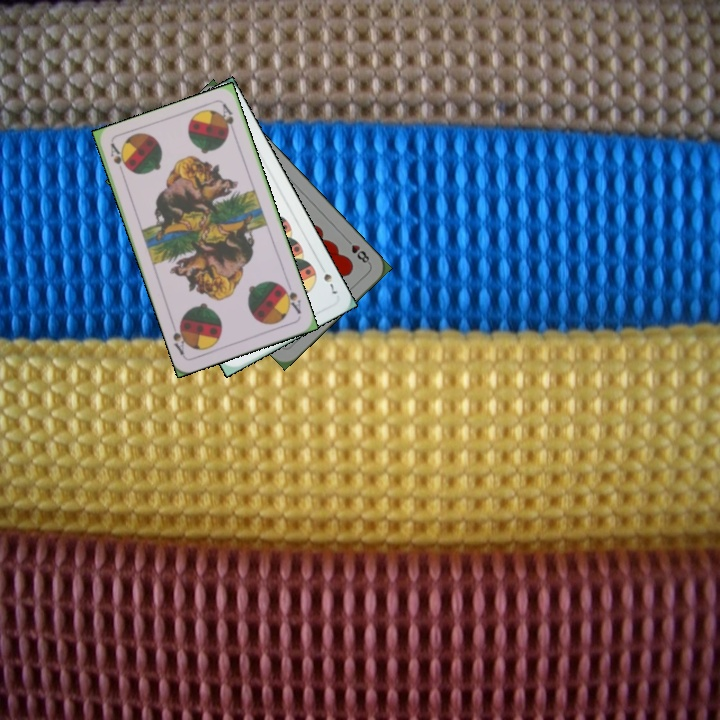H8: (341, 234, 373, 267)
S7: (319, 269, 340, 297)
SA: (277, 281, 303, 316), (106, 140, 129, 172)
